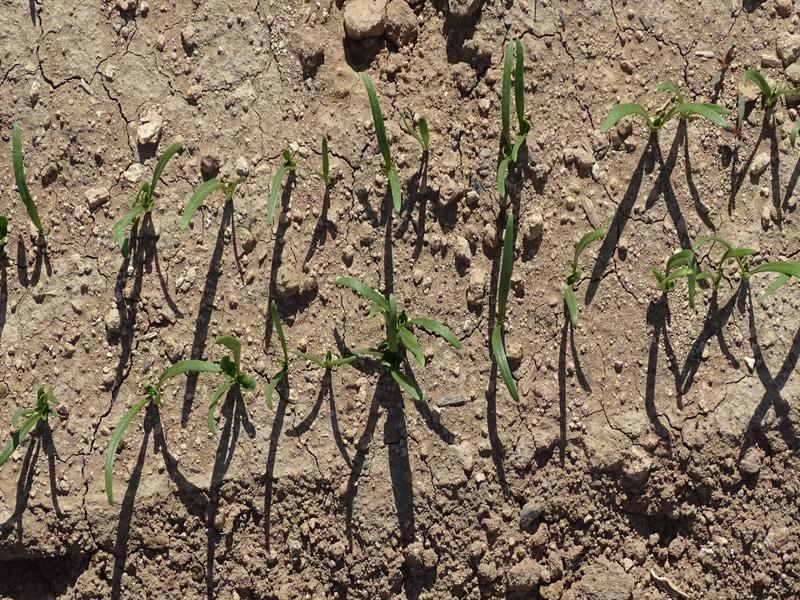Espinaca: (101, 334, 252, 491), (329, 268, 455, 404), (598, 71, 769, 135), (664, 237, 797, 304), (114, 140, 183, 239), (488, 208, 519, 401), (361, 73, 404, 209), (498, 43, 531, 198), (559, 228, 605, 327), (9, 122, 45, 237), (183, 170, 250, 229), (16, 386, 57, 445), (267, 144, 295, 224), (316, 134, 331, 190)
